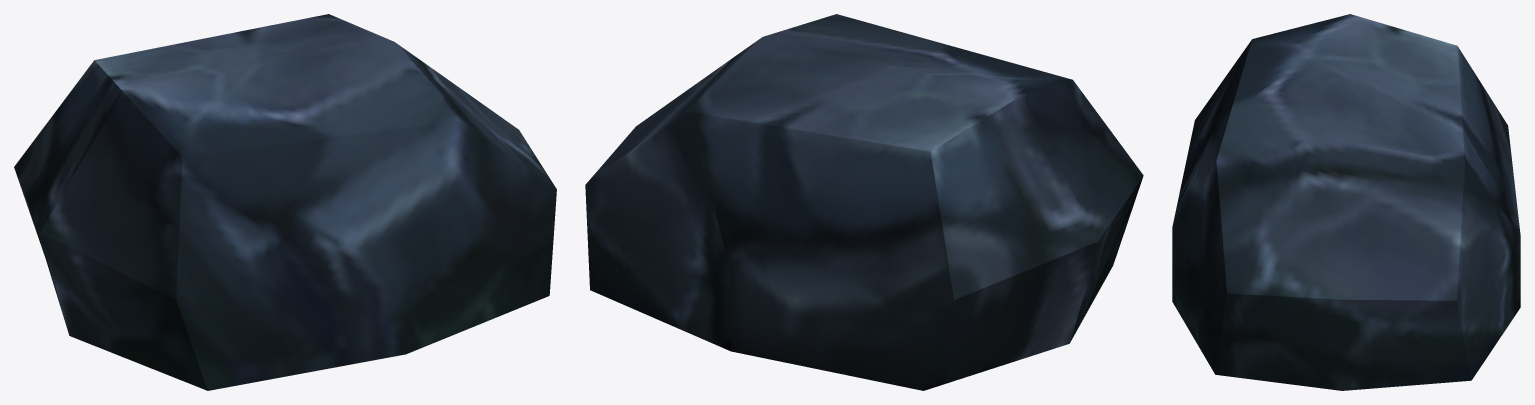
The model's file is H_Maze_xiaoshitou04.FBX.
3 views of the same model, side by side, from view 1: azimuth 30°, elevation 25°; view 2: azimuth 150°, elevation 25°; view 3: azimuth 270°, elevation 25° (orthographic). The views are drawn at different scales.
Visible parts, largest first — view 1: xiaoshitou04; view 2: xiaoshitou04; view 3: xiaoshitou04.
Part boxes in pixels (box(x1,y1,x2,y2)): xiaoshitou04: box(14, 14, 556, 390); xiaoshitou04: box(585, 14, 1143, 390); xiaoshitou04: box(1172, 14, 1520, 390).
Bounding box in the file's own units: 109 × 51.88 × 78.61.
